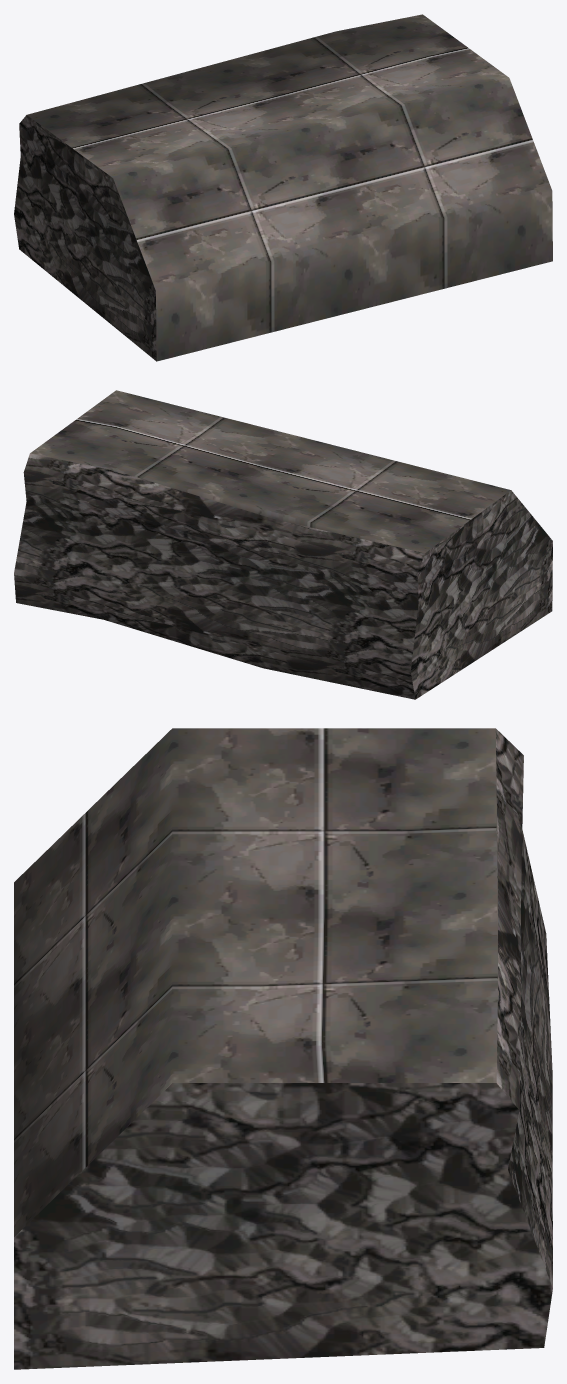
File: INST_SM_DEBRIS_BLOCK_MEDIUMD.fbx
3 views of the same model, one above another, from view 1: azimuth 30°, elevation 25°; view 2: azimuth 150°, elevation 25°; view 3: azimuth 270°, elevation 25° (orthographic). The views are drawn at different scales.
Visible parts, largest first — view 1: INST_SM_DEBRIS_BLOCK_MEDIUMD; view 2: INST_SM_DEBRIS_BLOCK_MEDIUMD; view 3: INST_SM_DEBRIS_BLOCK_MEDIUMD.
Part boxes in pixels (x1,y1,x2,y2): INST_SM_DEBRIS_BLOCK_MEDIUMD: [14, 14, 552, 361]; INST_SM_DEBRIS_BLOCK_MEDIUMD: [14, 390, 552, 699]; INST_SM_DEBRIS_BLOCK_MEDIUMD: [14, 728, 552, 1369].
Bounding box in the file's own units: 50214 × 19329 × 31532.
2 materials, 2 textured.
